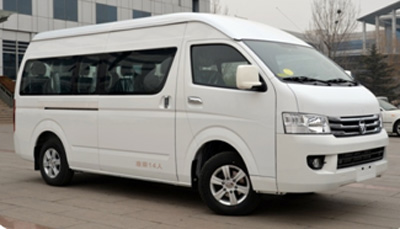midcar: (12, 13, 383, 213)
